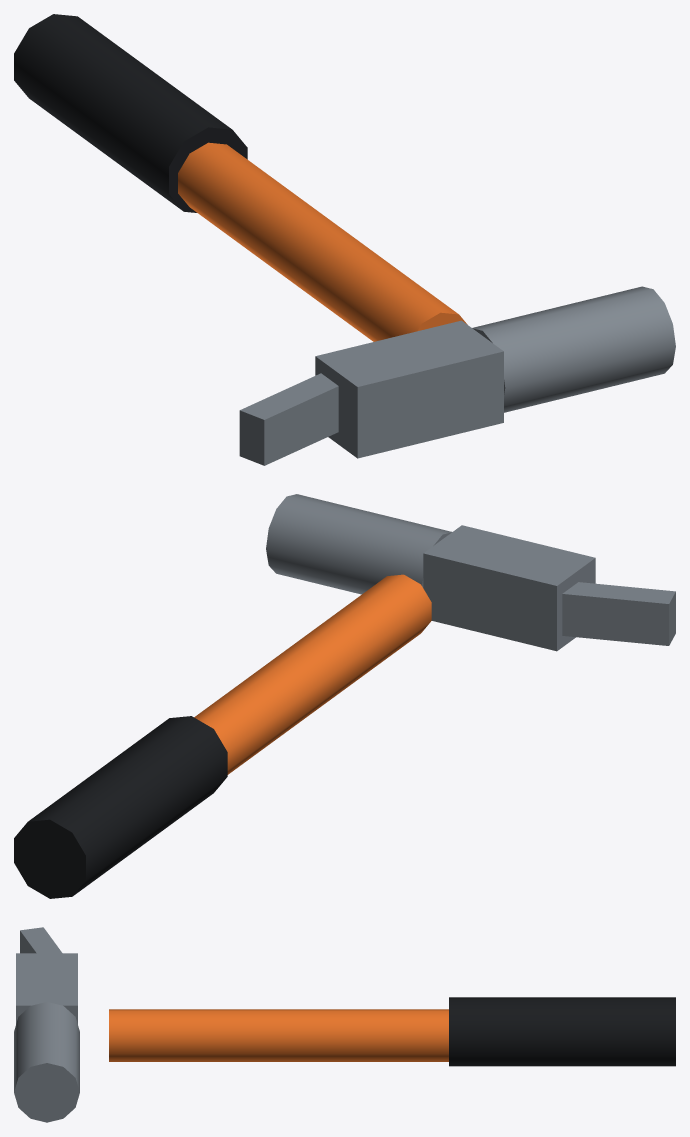
The model's file is toolkit--hammer.glb.
3 renders of one model, top to bottom at view 1: azimuth 30°, elevation 25°; view 2: azimuth 150°, elevation 25°; view 3: azimuth 270°, elevation 25°, orthographic. The views are drawn at different scales.
Parts seen in each view (by area): view 1: hammer:shell, head; view 2: hammer:shell, head; view 3: hammer:shell, head.
Part boxes in pixels (box(x1,y1,x2,y2)): hammer:shell: box(14, 14, 467, 341); head: box(239, 286, 675, 465); hammer:shell: box(14, 574, 431, 898); head: box(266, 494, 675, 651); hammer:shell: box(109, 997, 675, 1066); head: box(14, 927, 79, 1122).
Size of the model in its own units: 0.1707 by 0.034 by 0.321.
